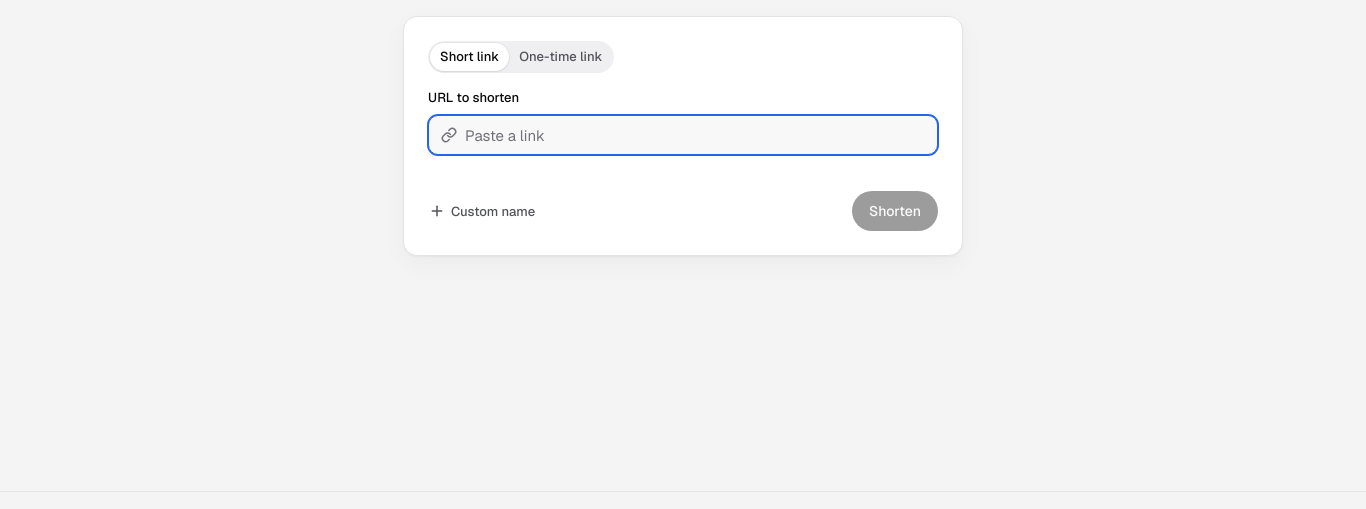
Test: home page one-time option › switches to the one-time form and back
Expected: the radio button labelled "Short link" is checked, top-left (430, 43), bottom-right (509, 71)
Click the radio button labelled "One-time link": (561, 57) top-left (509, 43), bottom-right (612, 71)
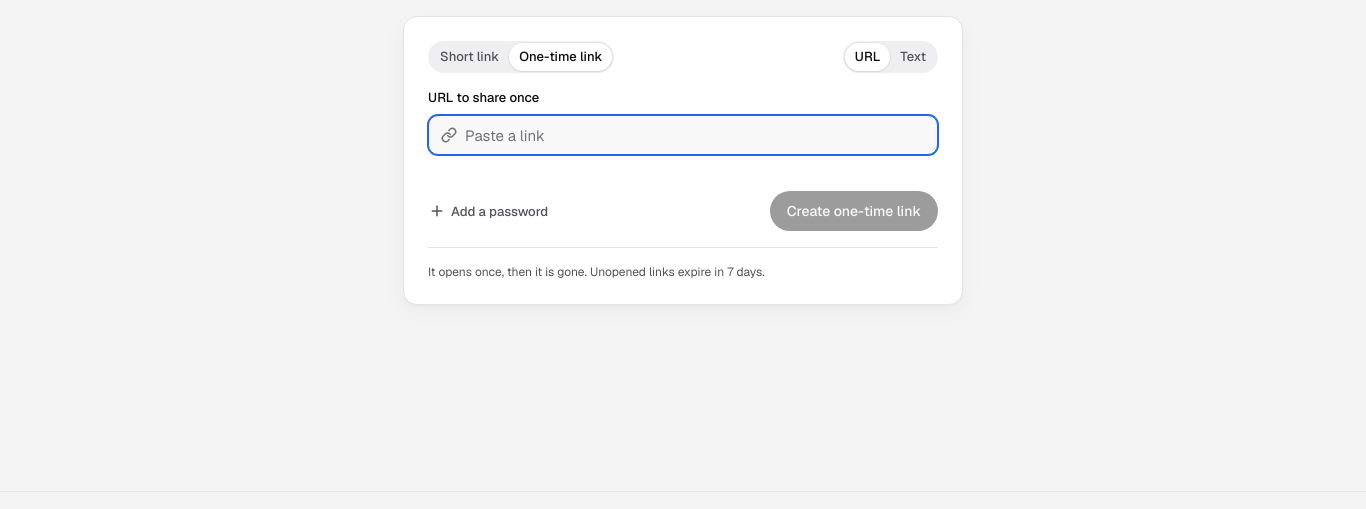
Expected: the button "Create one-time link" is shown, top-left (770, 191), bottom-right (938, 231)
Expected: the label labelled "URL to shorten" is gone
Click the radio button labelled "Short link": (470, 57) top-left (430, 43), bottom-right (509, 71)
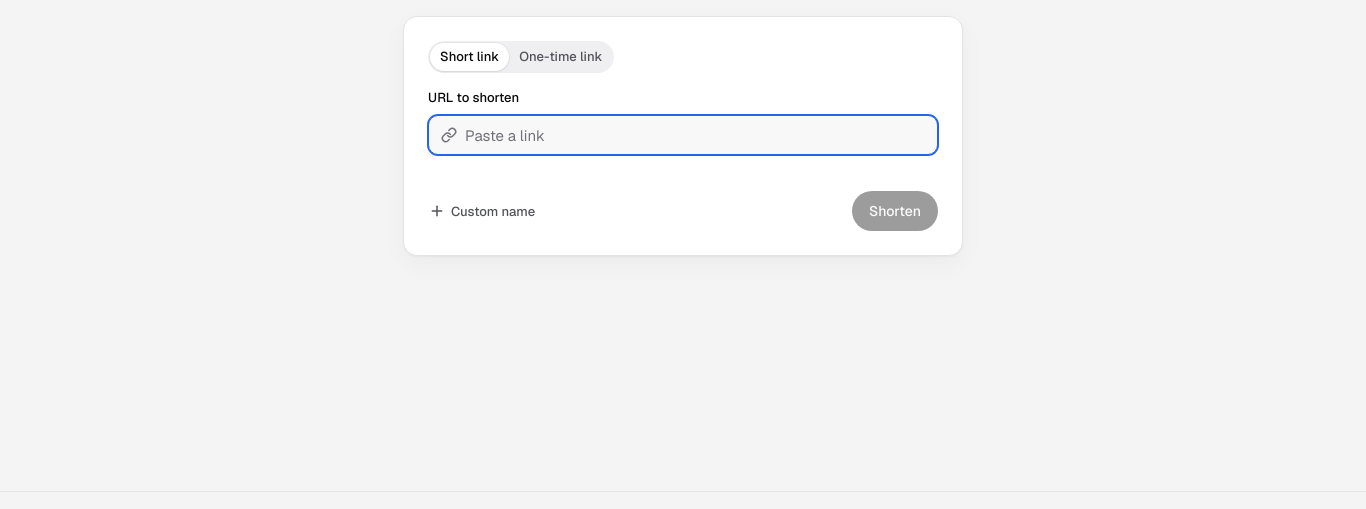
Expected: the field labelled "URL to shorten" is shown, top-left (465, 116), bottom-right (925, 154)
Expected: the button "Create one-time link" is gone
